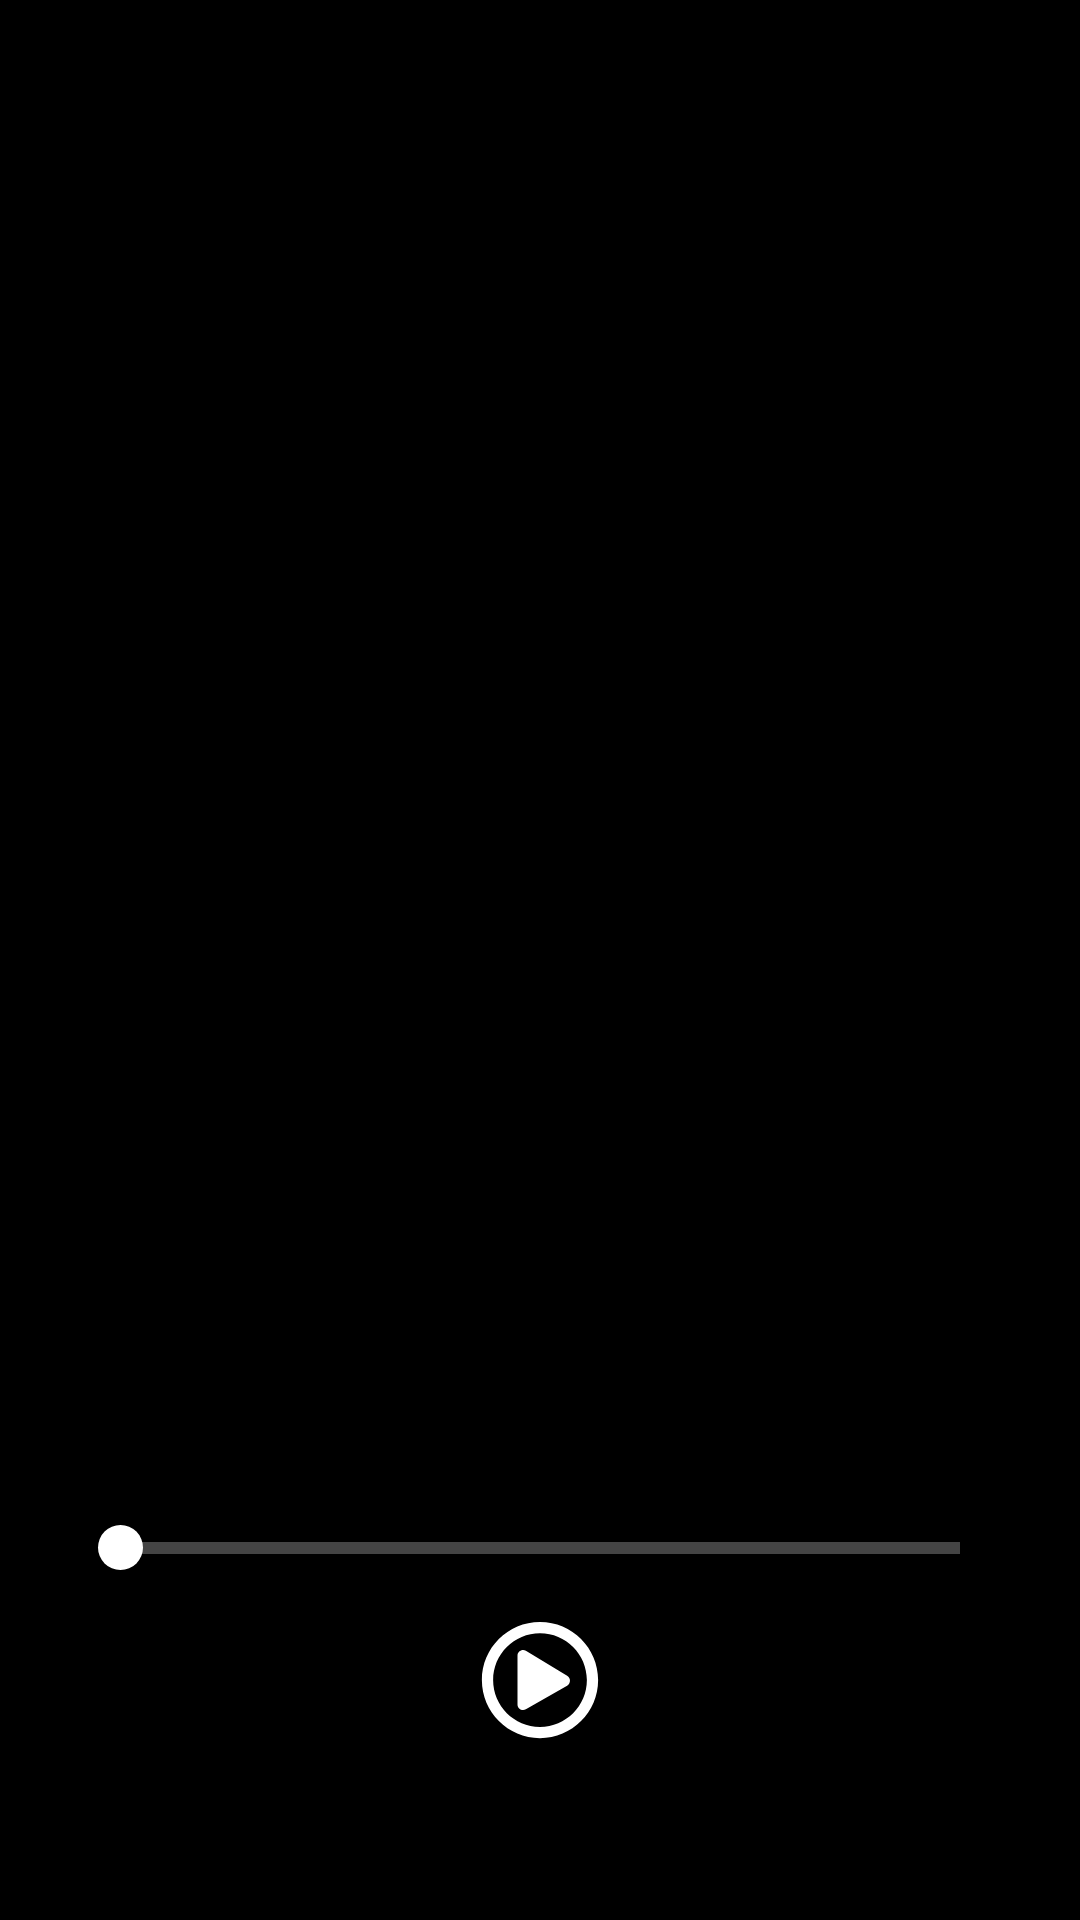

Screen size 1080 x 1920. Icon name, then its box in pixels as {"x1": x1, "y1": y1, "x2": x2, "y2": y2}:
Play / Pause: {"x1": 481, "y1": 1622, "x2": 598, "y2": 1739}
